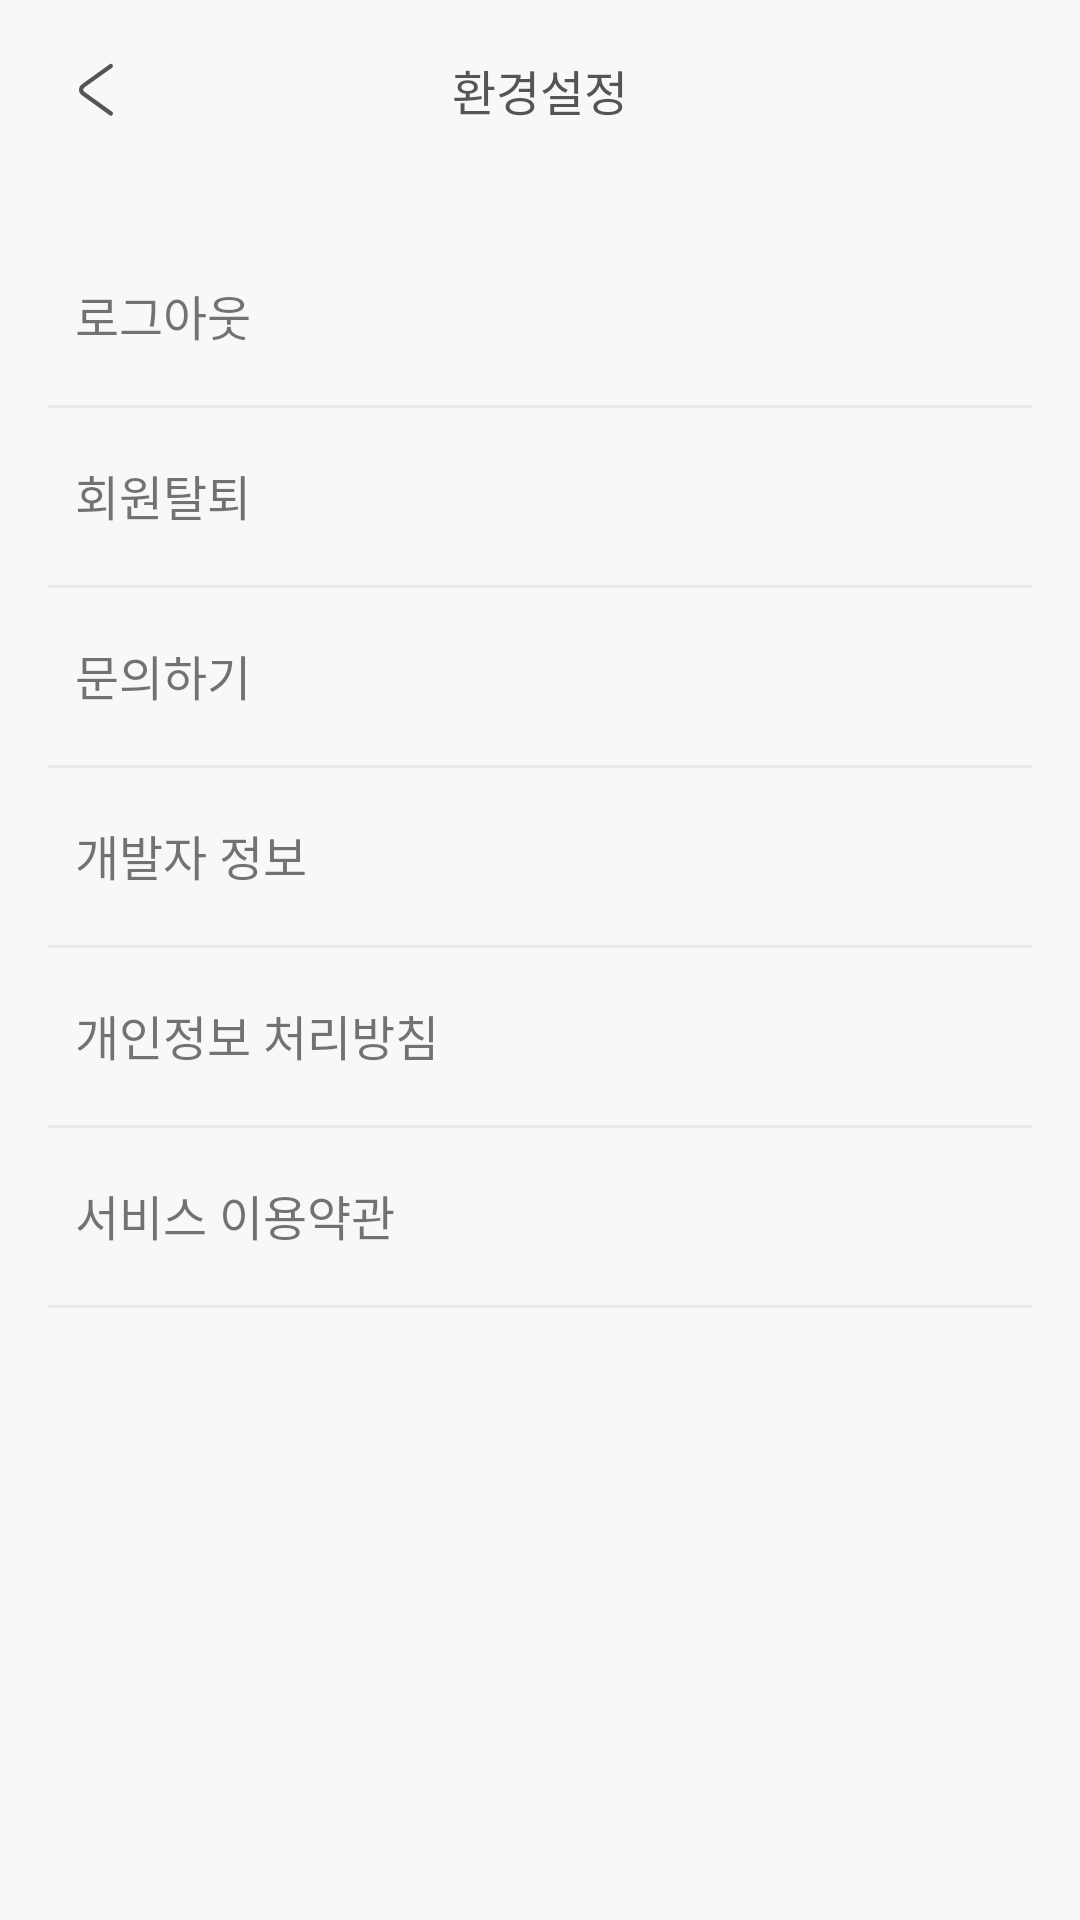

Where icons sit on this 1080px×1920px app screen, as (x1, y1, x2, y2):
arrow back: (79, 64, 113, 116)
